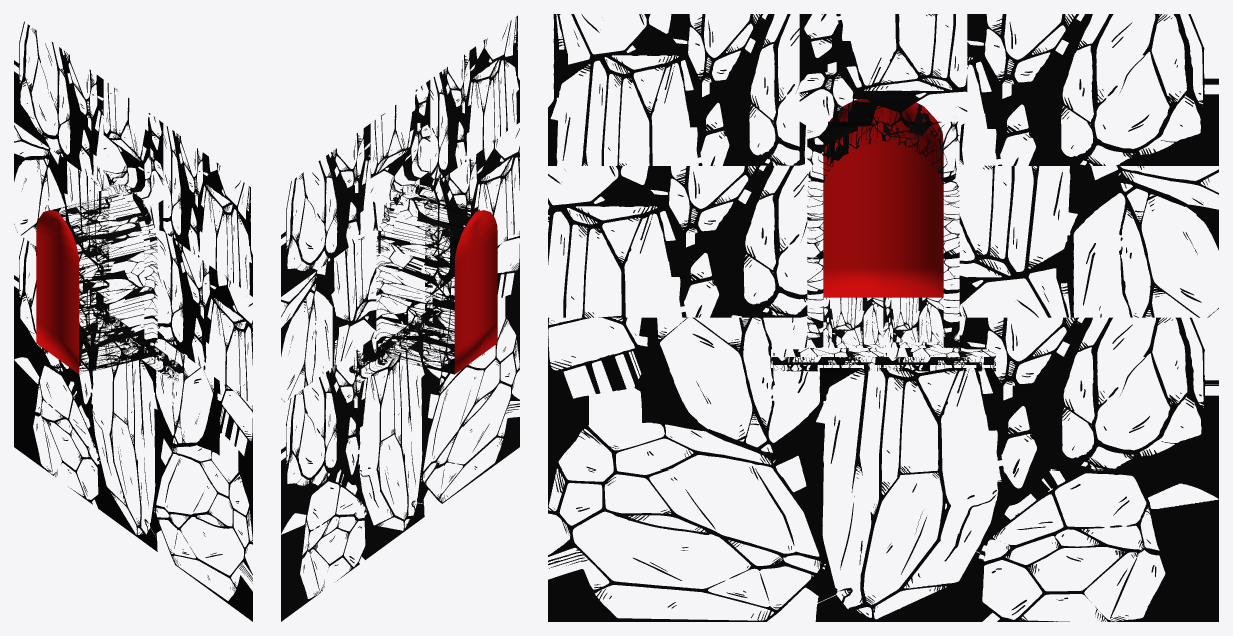
The model's file is Model_Environment_WallWindow.fbx.
The picture shows the model from 3 angles, left to right: view 1: azimuth 30°, elevation 25°; view 2: azimuth 150°, elevation 25°; view 3: azimuth 270°, elevation 25°; orthographic projection. The views are drawn at different scales.
Parts seen in each view (by area): view 1: WallWindow_low; view 2: WallWindow_low; view 3: WallWindow_low.
Boxes of the visible parts, bbox=[...] form: WallWindow_low: bbox=[14, 21, 252, 621]; WallWindow_low: bbox=[281, 15, 519, 621]; WallWindow_low: bbox=[548, 14, 1218, 621].
Size of the model in its own units: 0.6336 by 3 by 3.
